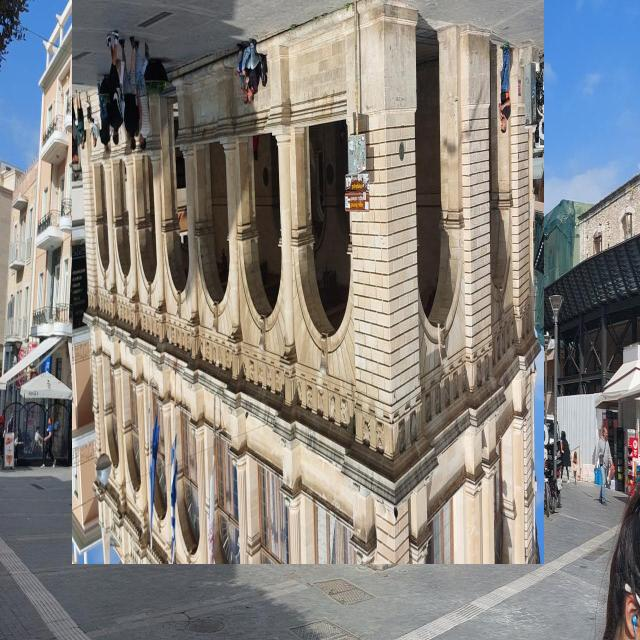Loggia: (73, 1, 545, 565)
